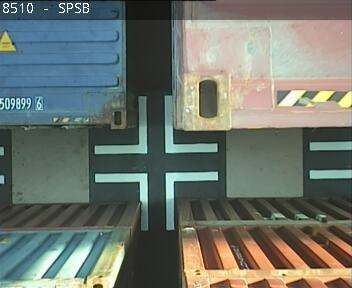groundmarker_1: (94, 170, 217, 228), (94, 96, 217, 154)
